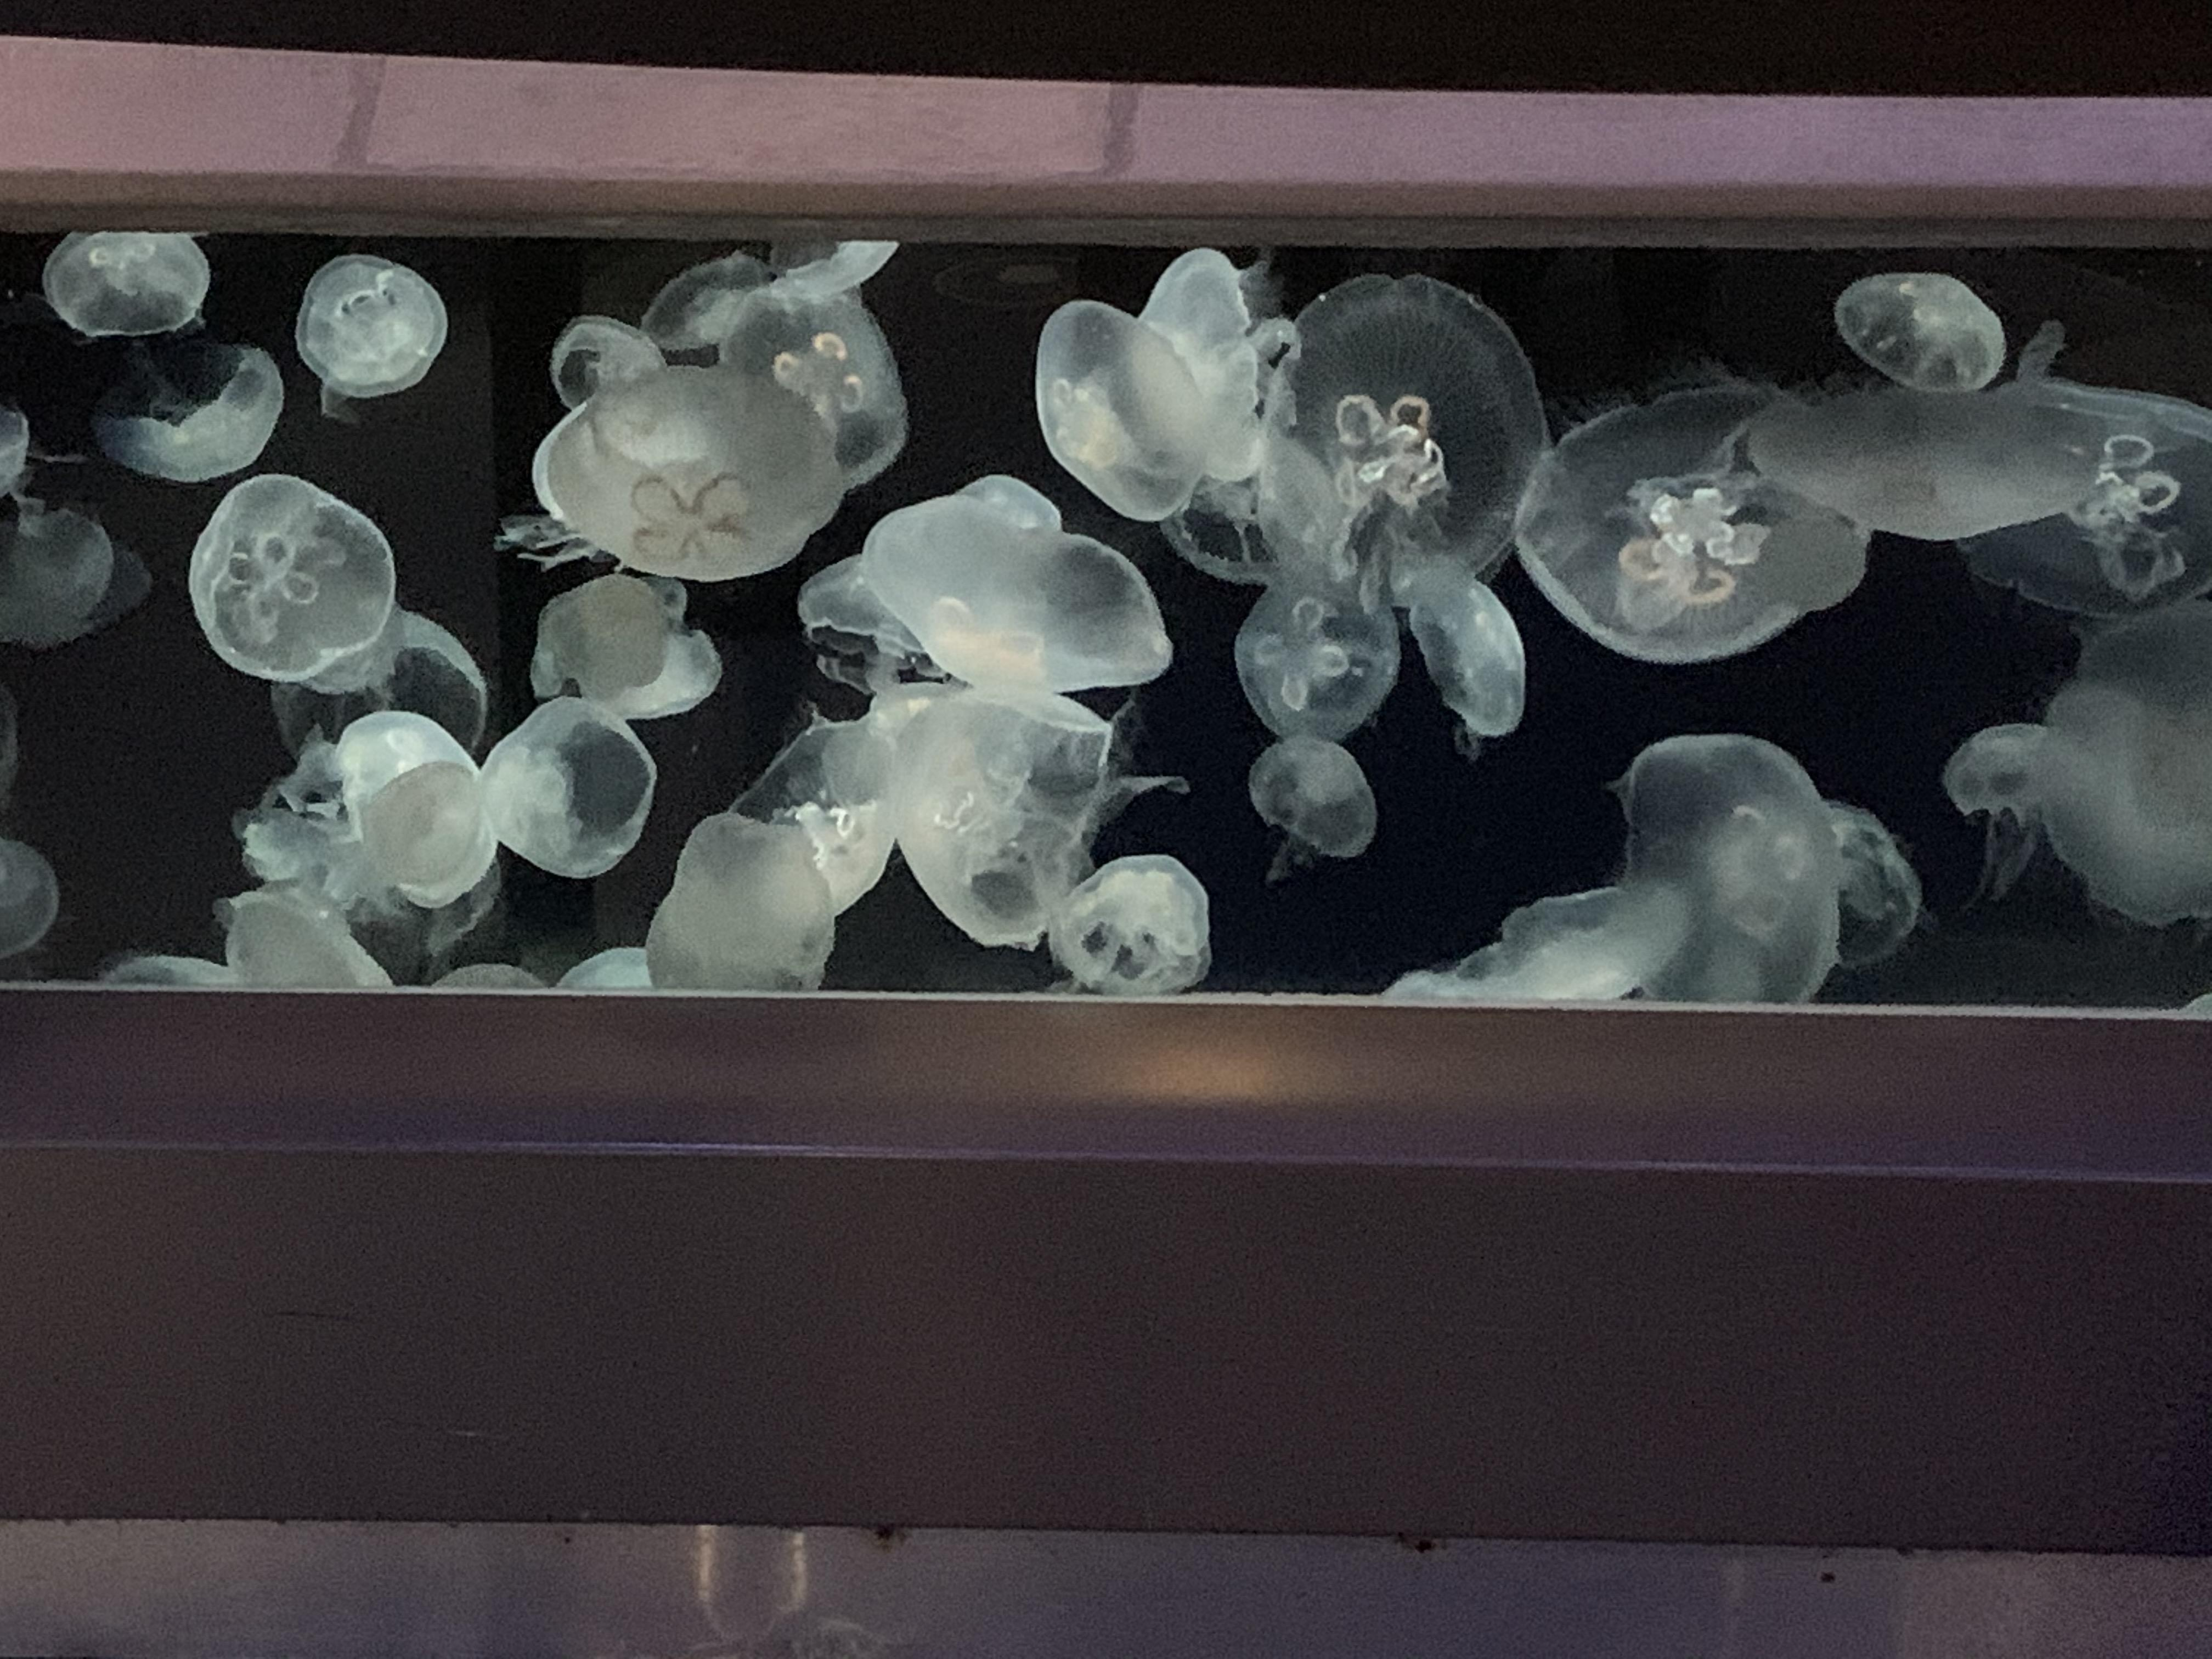jellyfish: (1515, 383, 1888, 683), (1249, 246, 1534, 586), (827, 465, 1186, 713), (869, 666, 1141, 960), (523, 361, 852, 599), (1611, 713, 1862, 1006), (998, 253, 1240, 549), (1763, 361, 2081, 575), (1970, 342, 2212, 622), (2031, 591, 2210, 945), (683, 253, 921, 488), (1385, 854, 1679, 1032), (178, 460, 406, 688), (251, 601, 502, 793), (474, 681, 678, 894), (629, 807, 850, 1000), (1120, 237, 1280, 495), (320, 699, 507, 910), (1226, 559, 1416, 749), (87, 335, 303, 497), (1749, 786, 1933, 972), (1040, 840, 1240, 1000), (1402, 549, 1566, 744), (1829, 251, 2026, 411), (287, 244, 469, 415), (540, 535, 725, 701), (35, 223, 235, 366), (1240, 721, 1395, 875), (209, 864, 385, 997), (1933, 704, 2092, 838), (540, 303, 712, 425), (2, 500, 127, 664), (0, 836, 59, 962)
